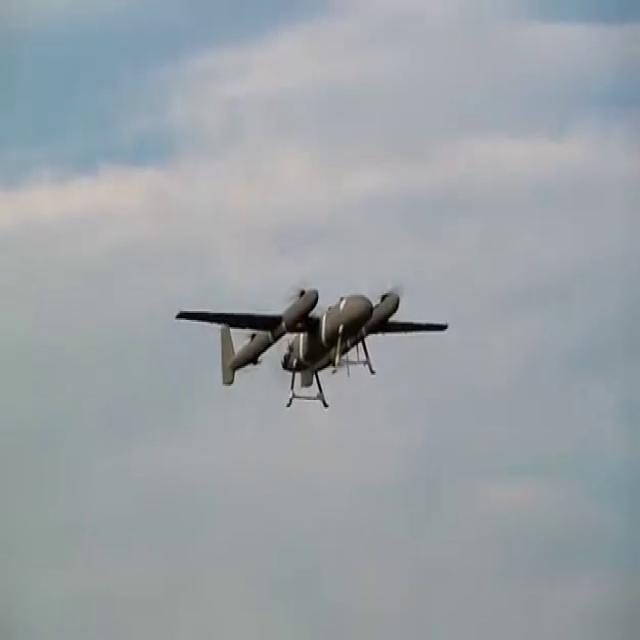iha: (176, 322, 451, 378)
